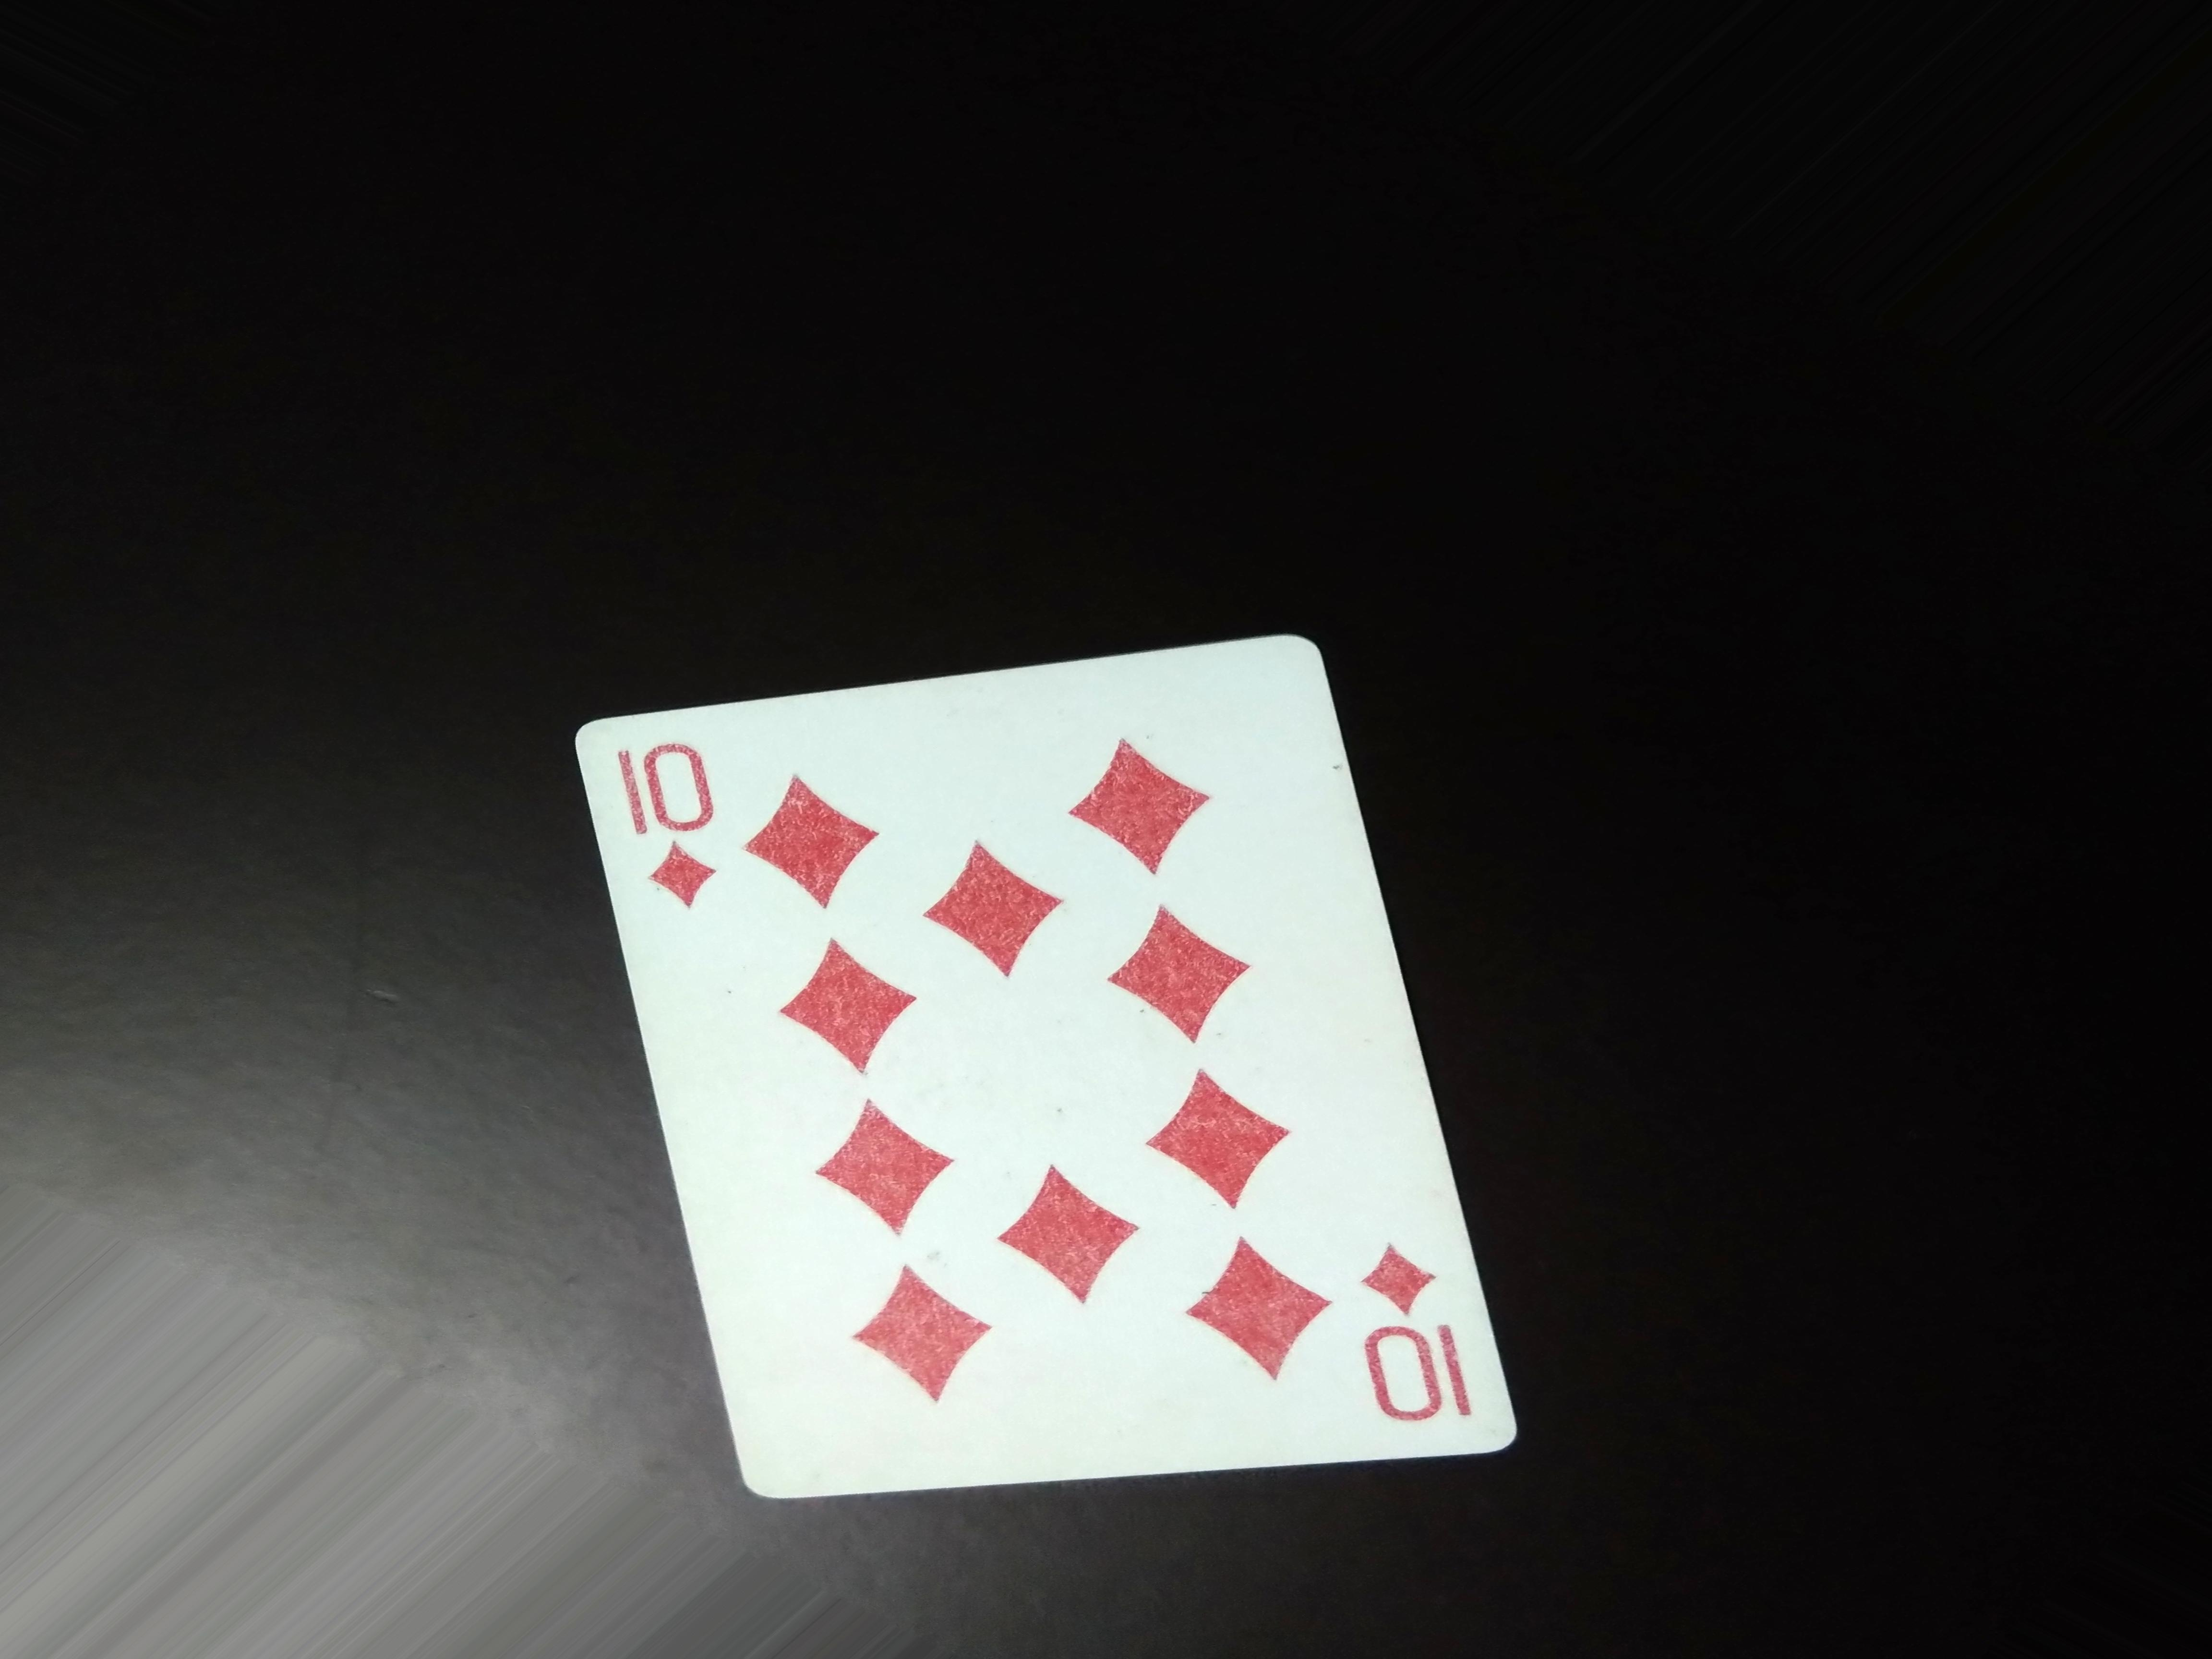10D: (603, 728, 732, 924)
